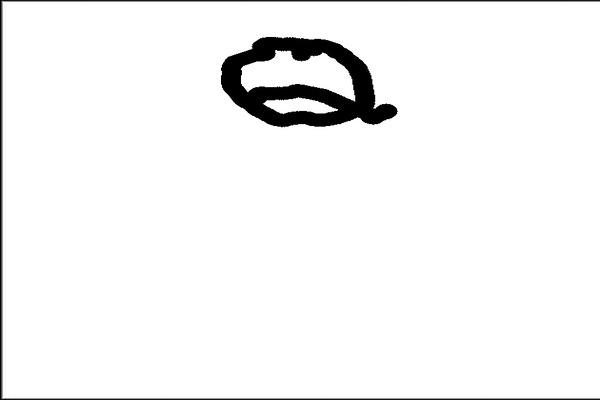Q: (209, 25, 397, 138)
